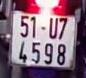1: (29, 15, 38, 39)
4: (18, 40, 29, 63)
5: (30, 38, 41, 65), (19, 14, 30, 38)
7: (58, 16, 69, 39)
8: (57, 41, 68, 66)
9: (43, 41, 55, 67)
U: (48, 16, 59, 40)
